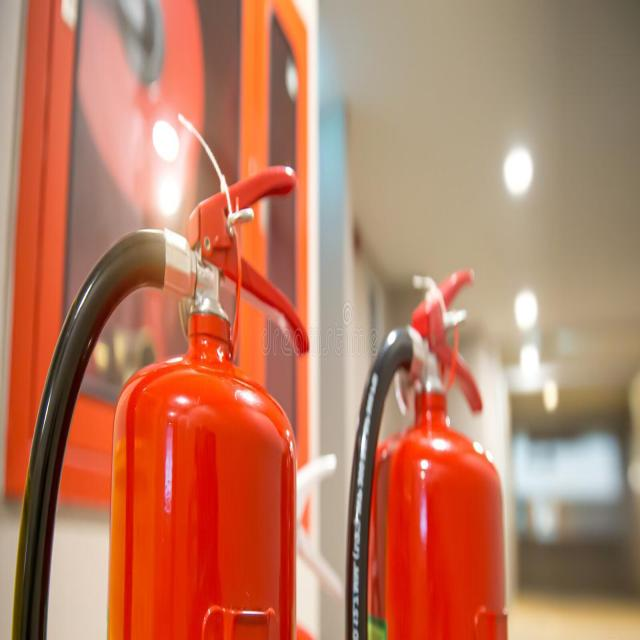fire_extinguisher: (7, 156, 312, 639), (339, 255, 514, 639)
